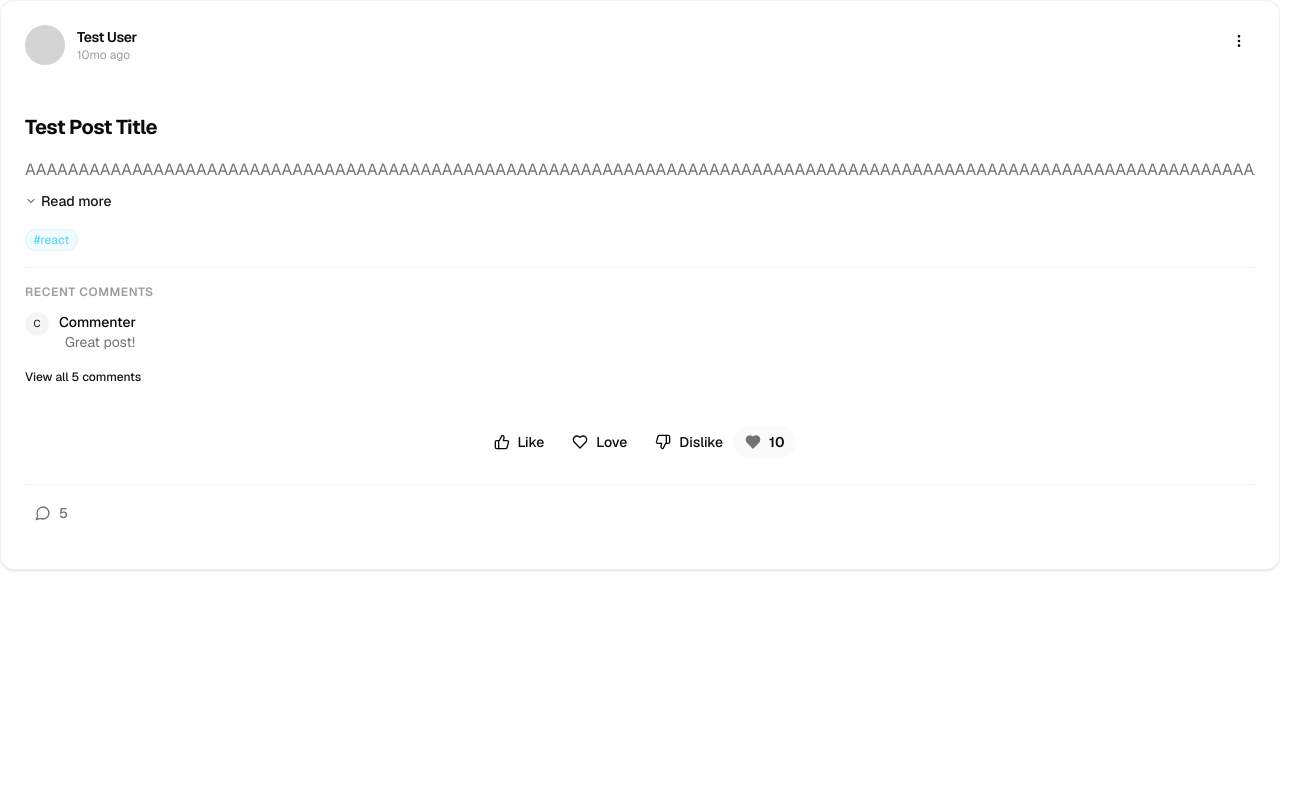
PostCard › Long Description › toggles description expansion
Click the button "Read more" at (68, 201), box [25,191,112,211]
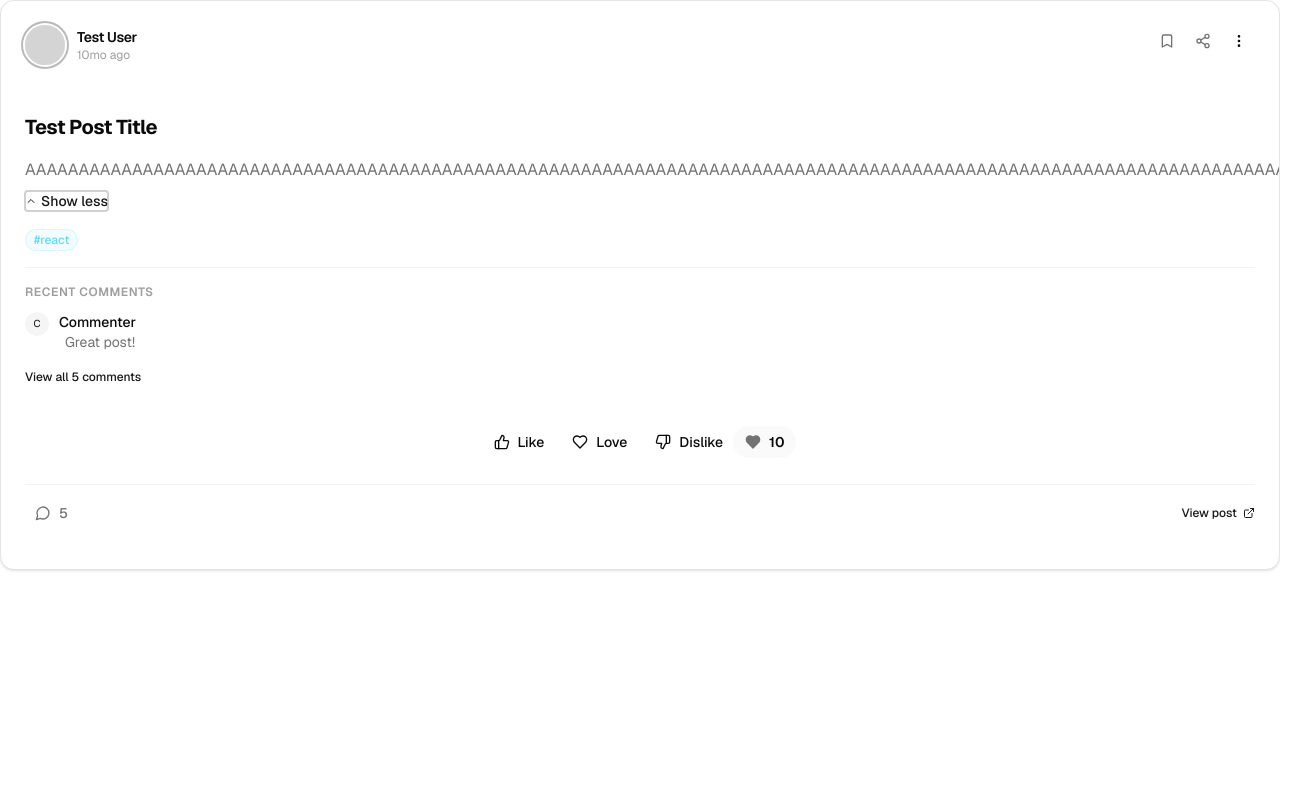
Expected: the button "Show less" is shown
Click the button "Show less" at (66, 201), box [25,191,108,211]
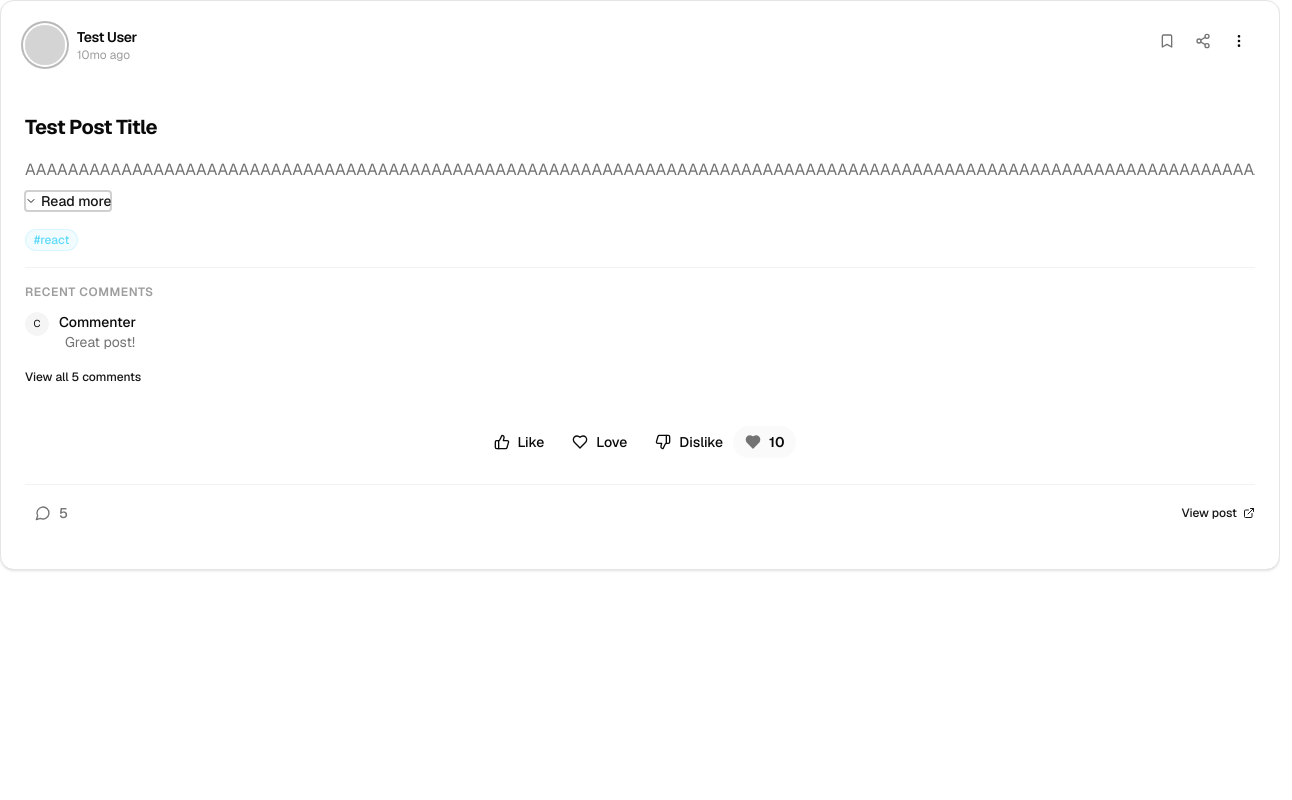
Expected: the button "Read more" is shown, [25,191,112,211]
